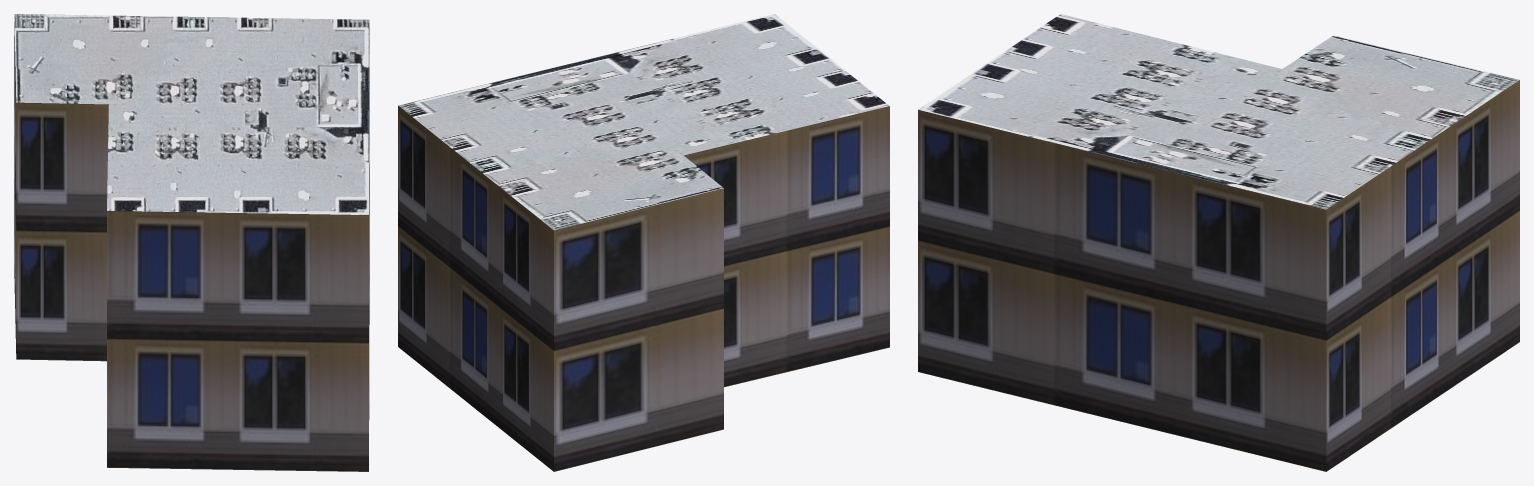
The model's file is ResTex__610.fbx.
The picture shows the model from 3 angles, left to right: view 1: azimuth 30°, elevation 25°; view 2: azimuth 150°, elevation 25°; view 3: azimuth 270°, elevation 25°; orthographic projection. The views are drawn at different scales.
Parts seen in each view (by area): view 1: CityEngineMaterial_5_m, CityEngineMaterial_4_m; view 2: CityEngineMaterial_5_m, CityEngineMaterial_4_m; view 3: CityEngineMaterial_5_m, CityEngineMaterial_4_m.
Part boxes in pixels (x1,y1,x2,y2): CityEngineMaterial_5_m: (14, 22, 369, 471); CityEngineMaterial_4_m: (14, 14, 369, 214); CityEngineMaterial_5_m: (398, 106, 889, 471); CityEngineMaterial_4_m: (398, 14, 889, 230); CityEngineMaterial_5_m: (918, 80, 1519, 471); CityEngineMaterial_4_m: (918, 14, 1519, 209).
Bounding box in the file's own units: 9.6 × 6 × 12.48.
Materials: 2 (2 with a texture image).
